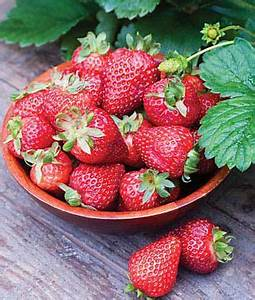Fresa: (97, 44, 163, 119), (59, 103, 134, 168), (154, 217, 226, 278), (125, 232, 187, 300), (131, 123, 200, 182), (142, 73, 204, 130), (117, 165, 187, 215), (68, 159, 126, 216), (25, 144, 77, 197), (7, 113, 56, 161)
